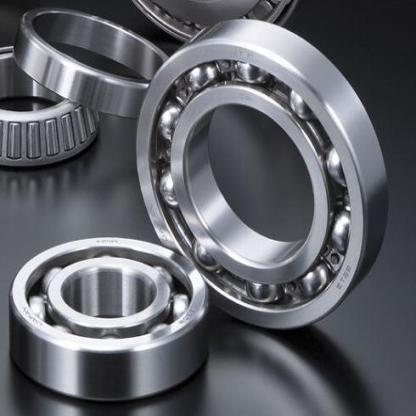FOD: (130, 13, 393, 337), (4, 232, 211, 412)
